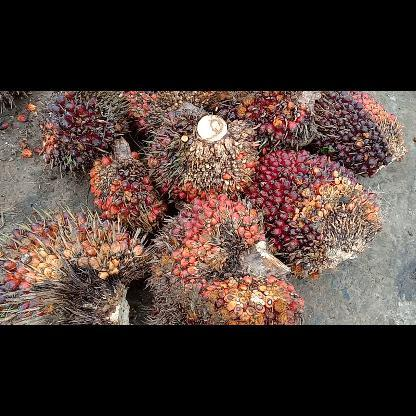TBS masak: (150, 192, 306, 324), (248, 145, 382, 277), (0, 207, 148, 323), (146, 104, 258, 204), (312, 91, 406, 179), (86, 138, 172, 232), (42, 91, 130, 174), (220, 91, 318, 153), (122, 93, 216, 136)
